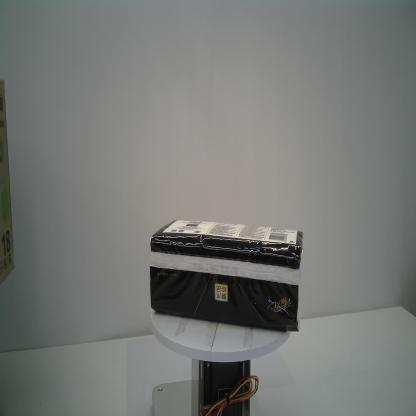Tissue: (150, 218, 303, 333)
